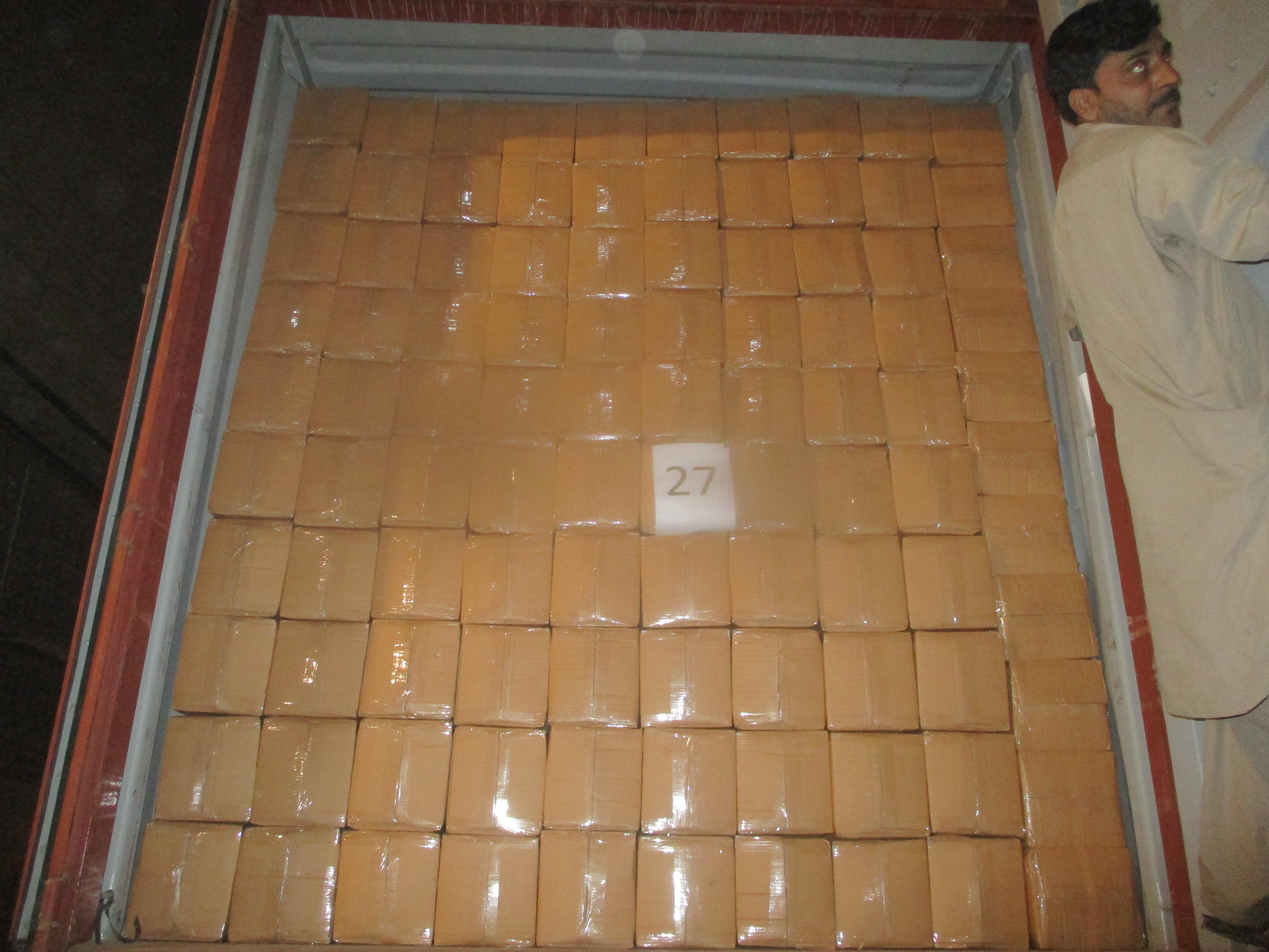carton: (125, 821, 242, 941), (227, 825, 340, 942), (1022, 846, 1145, 951), (332, 830, 441, 945), (250, 716, 358, 827), (347, 718, 453, 831), (434, 833, 539, 946), (537, 830, 637, 948), (927, 835, 1028, 950), (154, 715, 261, 822), (735, 835, 835, 949), (636, 834, 736, 948), (446, 725, 547, 834), (832, 838, 931, 948), (1017, 749, 1126, 848), (543, 725, 643, 831), (171, 615, 277, 715), (923, 731, 1023, 837), (830, 732, 929, 838), (359, 618, 460, 720), (736, 730, 834, 835), (641, 728, 737, 835), (189, 518, 292, 617), (265, 619, 369, 717), (454, 624, 550, 728), (913, 630, 1010, 732), (731, 627, 825, 730), (822, 631, 918, 731), (639, 434, 735, 533), (900, 534, 999, 630), (279, 526, 379, 621), (1007, 658, 1110, 750), (992, 573, 1099, 660), (639, 628, 732, 728), (548, 626, 639, 727), (816, 534, 909, 631), (550, 530, 642, 626), (728, 530, 818, 628), (294, 435, 388, 528), (371, 527, 465, 620), (639, 532, 731, 627), (208, 430, 306, 519), (461, 532, 553, 625), (380, 436, 473, 528), (977, 493, 1080, 575), (888, 444, 979, 534), (468, 442, 556, 534), (553, 439, 641, 531), (809, 445, 897, 534), (227, 352, 320, 435), (728, 442, 814, 531), (391, 360, 483, 441), (308, 358, 400, 438), (969, 421, 1064, 496), (954, 351, 1050, 422), (878, 369, 967, 445), (721, 365, 804, 446), (801, 366, 886, 445), (244, 281, 334, 355), (323, 286, 411, 361), (480, 365, 563, 444), (639, 358, 723, 436), (560, 362, 642, 440), (872, 295, 956, 371), (261, 212, 348, 283), (797, 294, 879, 369), (405, 290, 488, 363), (642, 289, 725, 362), (946, 287, 1039, 352), (486, 292, 567, 366), (337, 219, 422, 289), (274, 143, 357, 214), (936, 225, 1026, 290), (722, 294, 801, 368), (348, 151, 429, 222), (862, 227, 944, 296), (567, 226, 645, 297), (791, 226, 870, 296), (859, 159, 937, 229), (491, 225, 569, 295), (565, 294, 643, 364), (787, 156, 864, 226), (423, 155, 501, 224), (415, 223, 494, 291), (930, 165, 1016, 227), (721, 227, 798, 296), (644, 221, 722, 289), (718, 158, 791, 228), (497, 160, 572, 226), (287, 85, 368, 146), (786, 93, 862, 158), (644, 156, 718, 222), (858, 96, 933, 160), (929, 104, 1007, 165), (574, 98, 646, 164), (572, 163, 645, 228), (361, 95, 438, 156), (716, 98, 791, 159), (503, 101, 576, 162), (645, 98, 718, 158), (432, 98, 507, 156)
